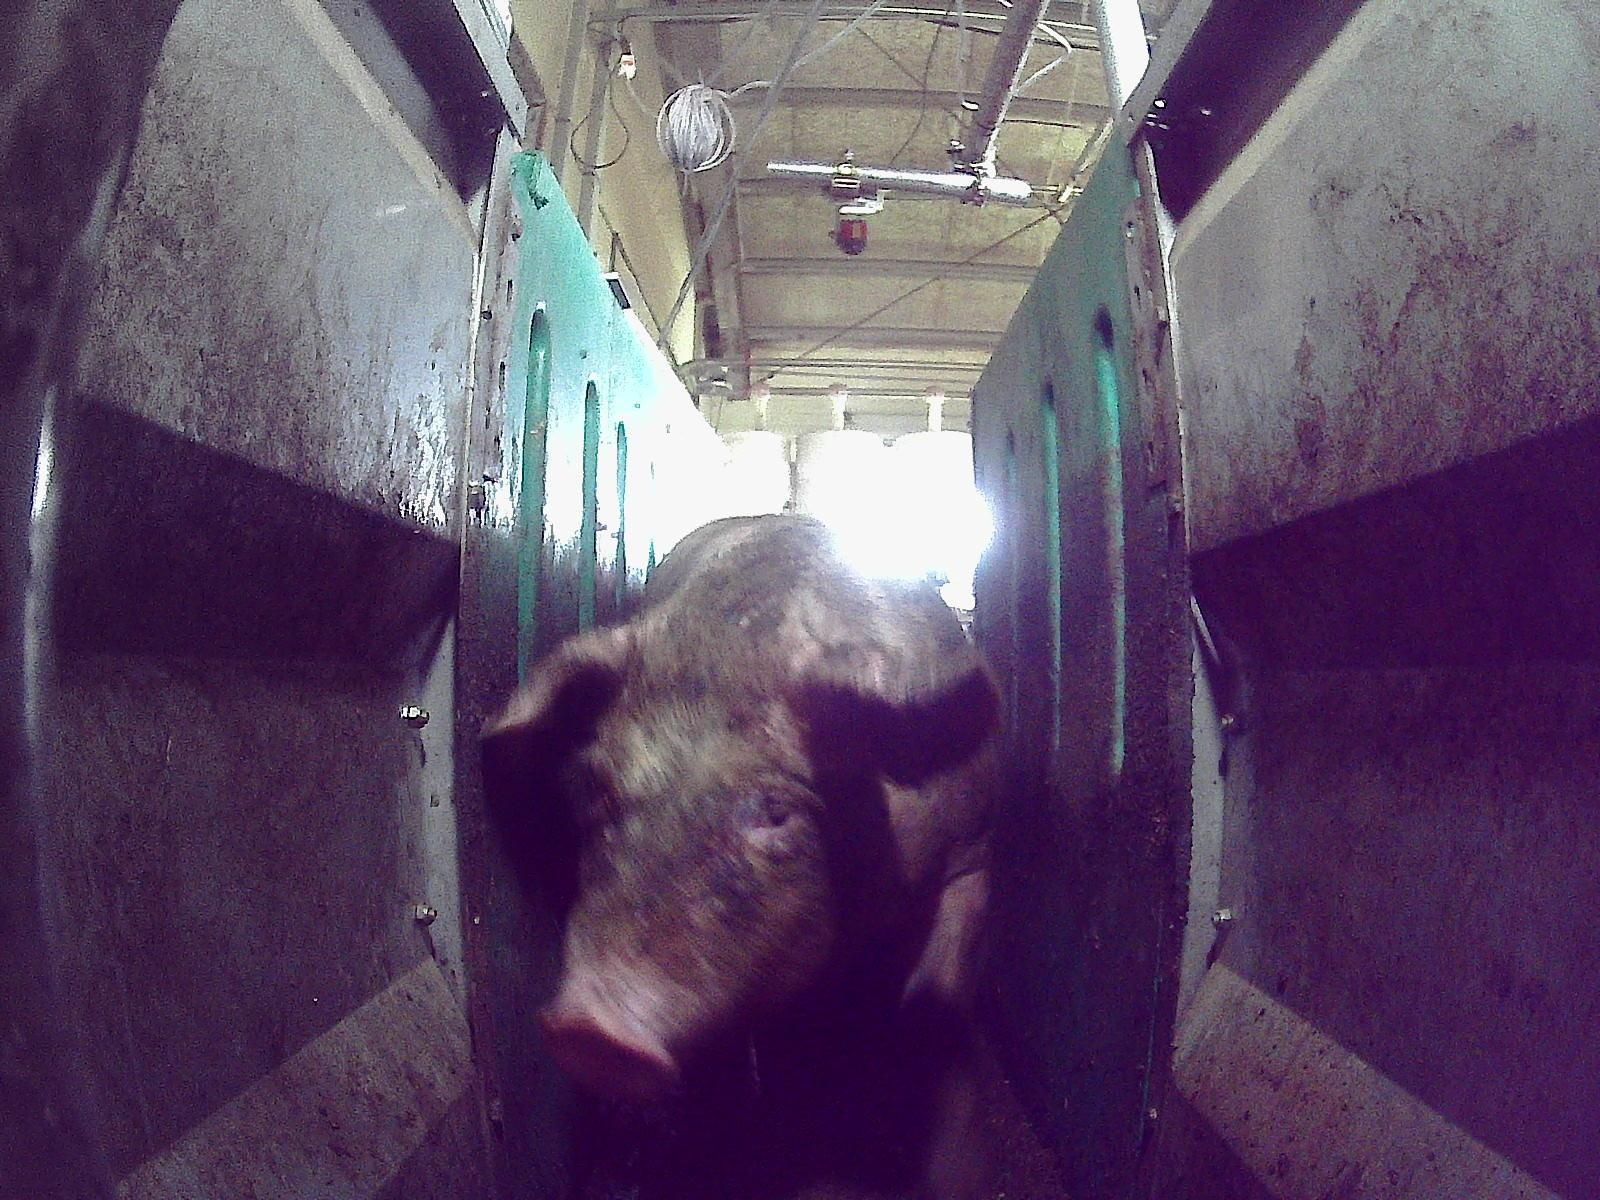Face: (537, 669, 865, 1103)
